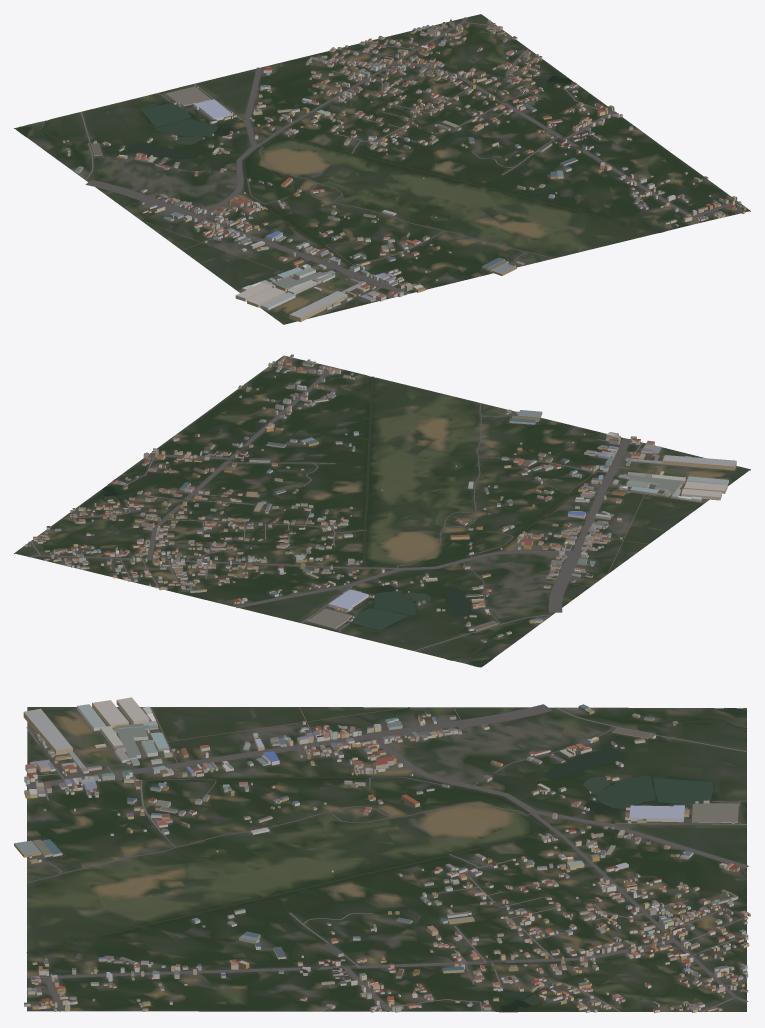
The picture shows the model from 3 angles, top to bottom: view 1: azimuth 30°, elevation 25°; view 2: azimuth 150°, elevation 25°; view 3: azimuth 270°, elevation 25°; orthographic projection. The views are drawn at different scales.
Visible parts, largest first — view 1: ground, buildings, roads, water; view 2: ground, buildings, roads, water; view 3: ground, buildings, roads, water.
Boxes of the visible parts, <box> form: ground: <box>14,14,750,324</box>; buildings: <box>63,19,746,321</box>; roads: <box>76,17,738,316</box>; water: <box>18,73,662,271</box>; ground: <box>14,355,750,667</box>; buildings: <box>25,354,736,642</box>; roads: <box>29,364,703,651</box>; water: <box>102,376,601,666</box>; ground: <box>27,707,746,1012</box>; buildings: <box>14,697,750,1013</box>; roads: <box>26,704,748,1011</box>; water: <box>26,708,746,1011</box>.
Size of the model in its own units: 1433 by 20.65 by 1435.
